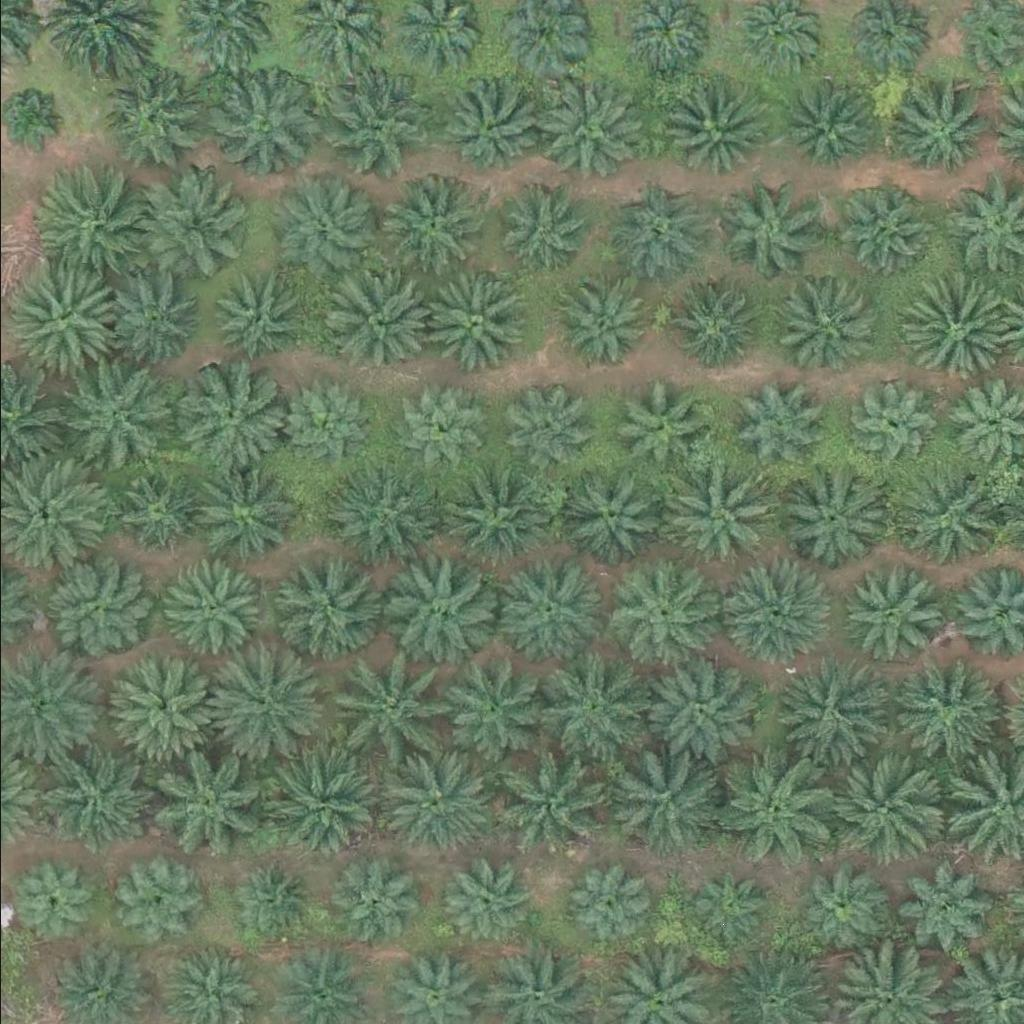Kelapa_Sawit: (200, 652, 314, 765), (777, 658, 891, 771), (379, 750, 492, 863), (260, 746, 373, 859), (144, 739, 257, 852), (375, 546, 488, 659), (70, 354, 183, 467), (6, 261, 119, 374), (265, 166, 378, 279), (146, 166, 259, 279), (32, 158, 145, 271), (205, 63, 318, 176), (823, 757, 936, 870), (642, 651, 755, 764), (888, 658, 1001, 771), (716, 557, 829, 670), (654, 463, 767, 576), (896, 461, 1009, 574), (28, 738, 142, 850), (171, 357, 285, 469), (371, 167, 485, 279), (717, 752, 831, 864), (439, 461, 553, 573), (896, 272, 1010, 384), (530, 76, 644, 188), (106, 652, 219, 764), (331, 659, 444, 771), (270, 544, 383, 656), (322, 462, 435, 574), (182, 459, 295, 571), (319, 270, 432, 382), (322, 70, 435, 182), (608, 743, 721, 855), (498, 748, 611, 860), (443, 650, 556, 762), (534, 649, 647, 761), (487, 556, 600, 668), (418, 265, 531, 377), (156, 558, 257, 658), (44, 558, 145, 658), (99, 268, 200, 368), (212, 272, 313, 372), (98, 72, 199, 172), (890, 860, 991, 960), (841, 568, 942, 668), (604, 564, 705, 664), (560, 460, 661, 560), (777, 471, 878, 571), (552, 270, 653, 370), (827, 177, 928, 277), (483, 182, 584, 282), (891, 82, 992, 182), (775, 271, 875, 371), (718, 180, 818, 280), (594, 180, 694, 280), (658, 85, 758, 185), (437, 78, 537, 178), (9, 856, 97, 944), (117, 860, 205, 948), (111, 463, 199, 551), (281, 380, 369, 468), (616, 383, 704, 471), (496, 388, 584, 476), (671, 276, 759, 364), (787, 84, 875, 172), (225, 858, 313, 945), (330, 858, 418, 945), (442, 861, 530, 948), (566, 861, 654, 948), (799, 872, 887, 959), (845, 380, 933, 467), (726, 381, 814, 468), (391, 383, 479, 470), (688, 870, 764, 945)
